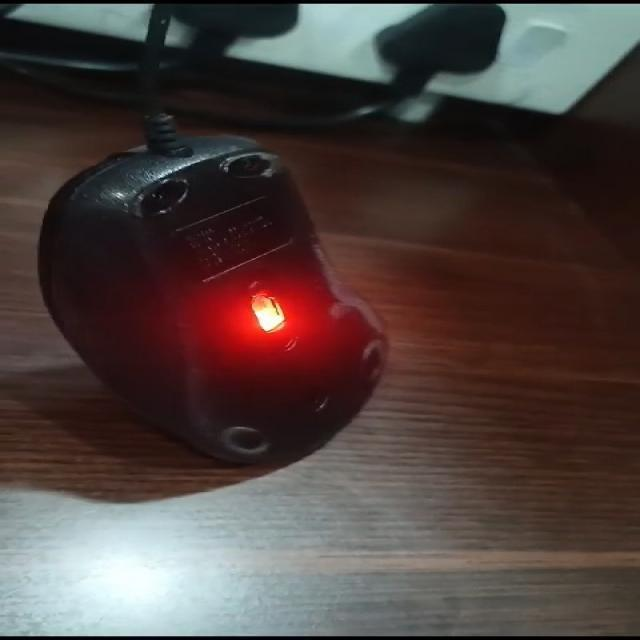Mouse: (27, 84, 432, 514)
